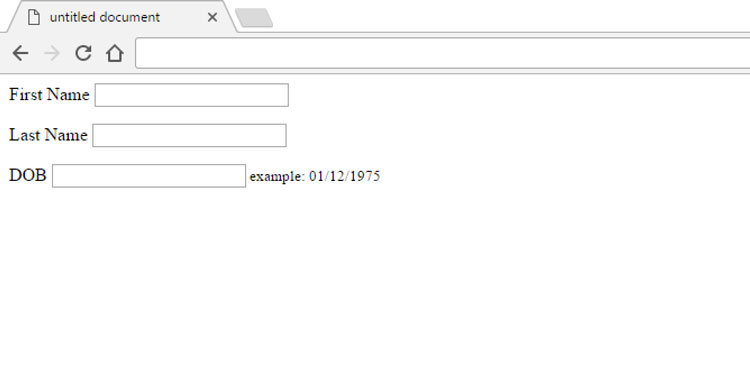field: (89, 122, 288, 148), (91, 83, 291, 107), (50, 163, 247, 187)
